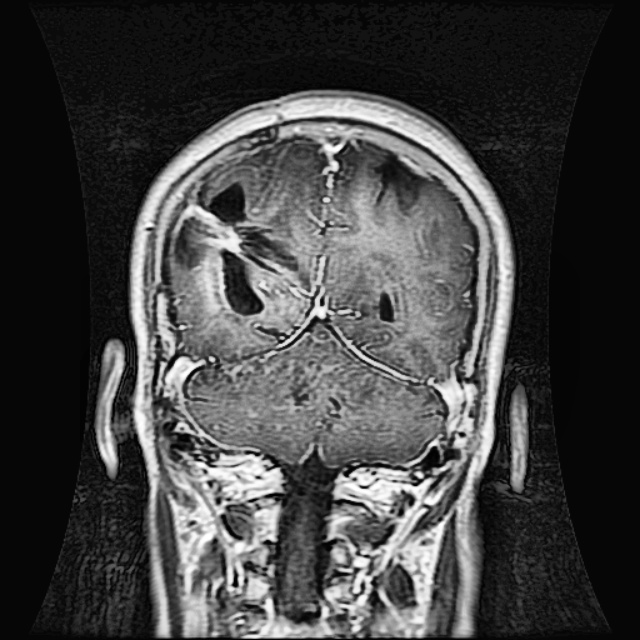Meningioma: (173, 180, 304, 317)
